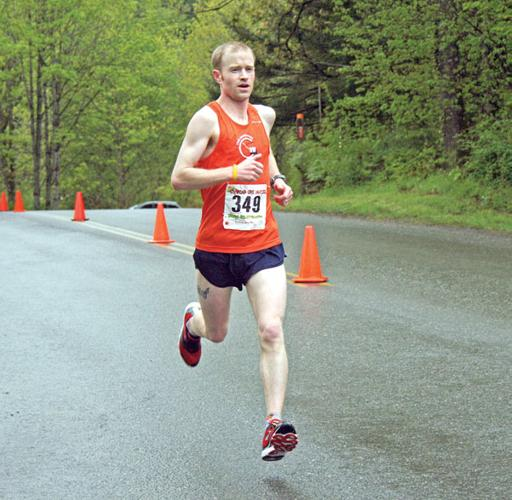person: (172, 42, 300, 466)
